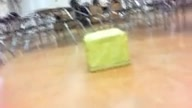cube: (83, 28, 129, 73)
